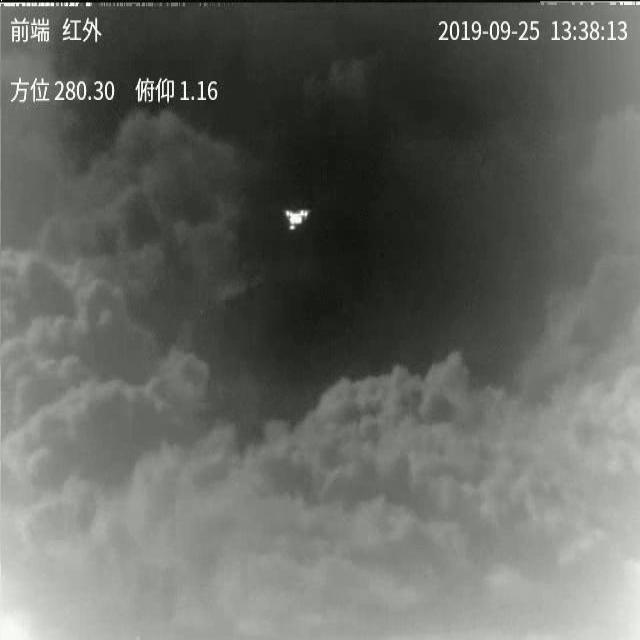drone: (284, 206, 312, 234)
